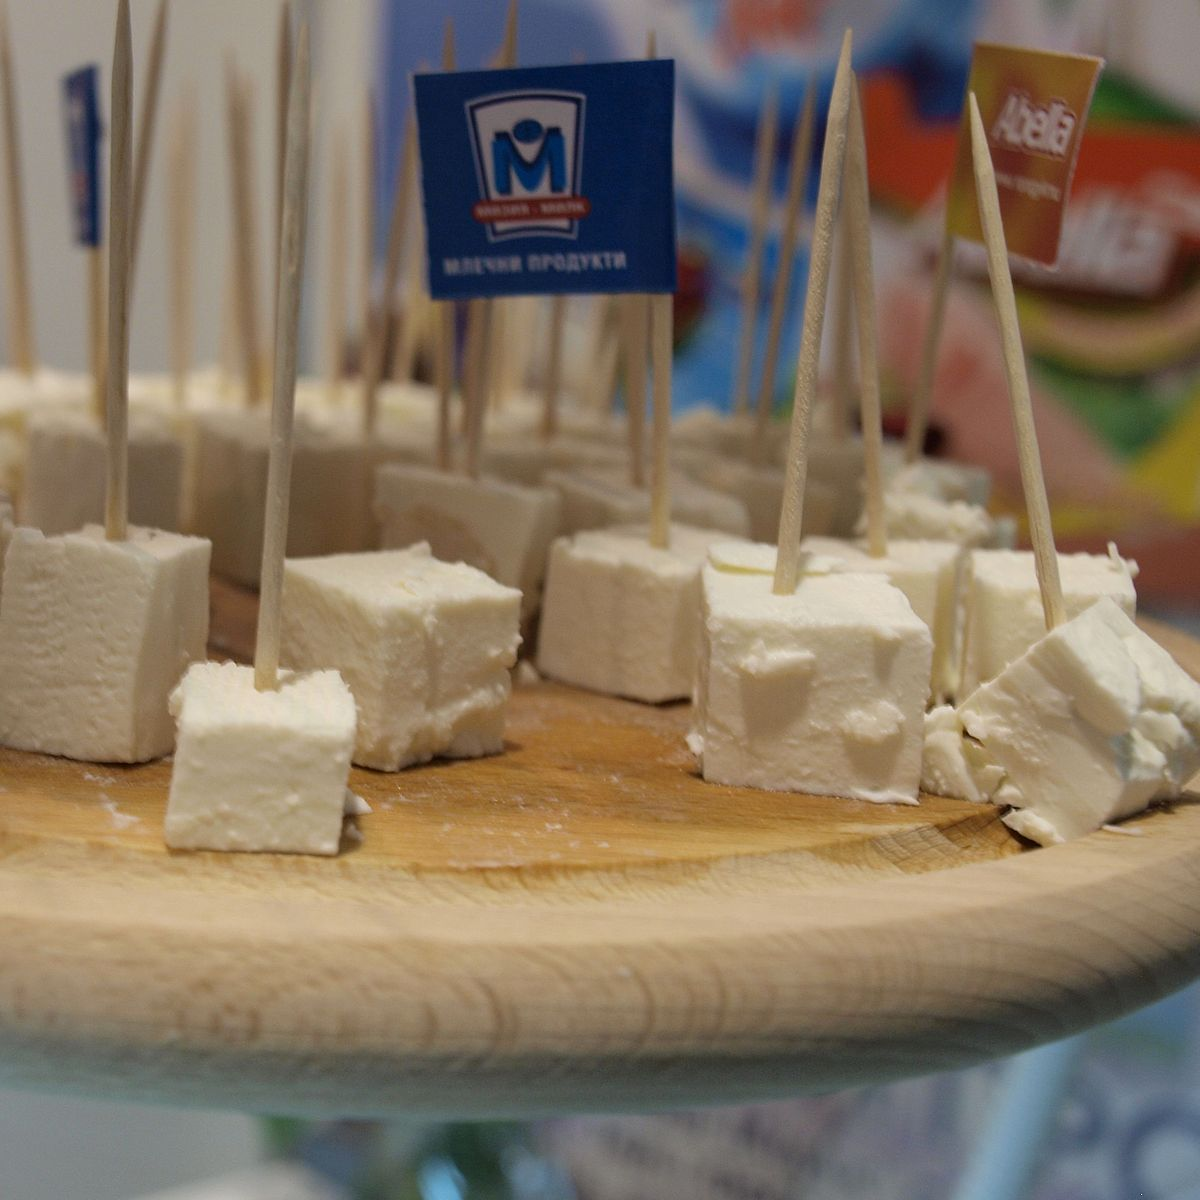cheese: (666, 531, 1173, 863), (262, 534, 541, 800), (158, 651, 451, 834)
